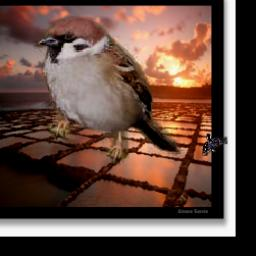Sparrow: (34, 14, 185, 166)
Woodpecker: (203, 134, 228, 156)
